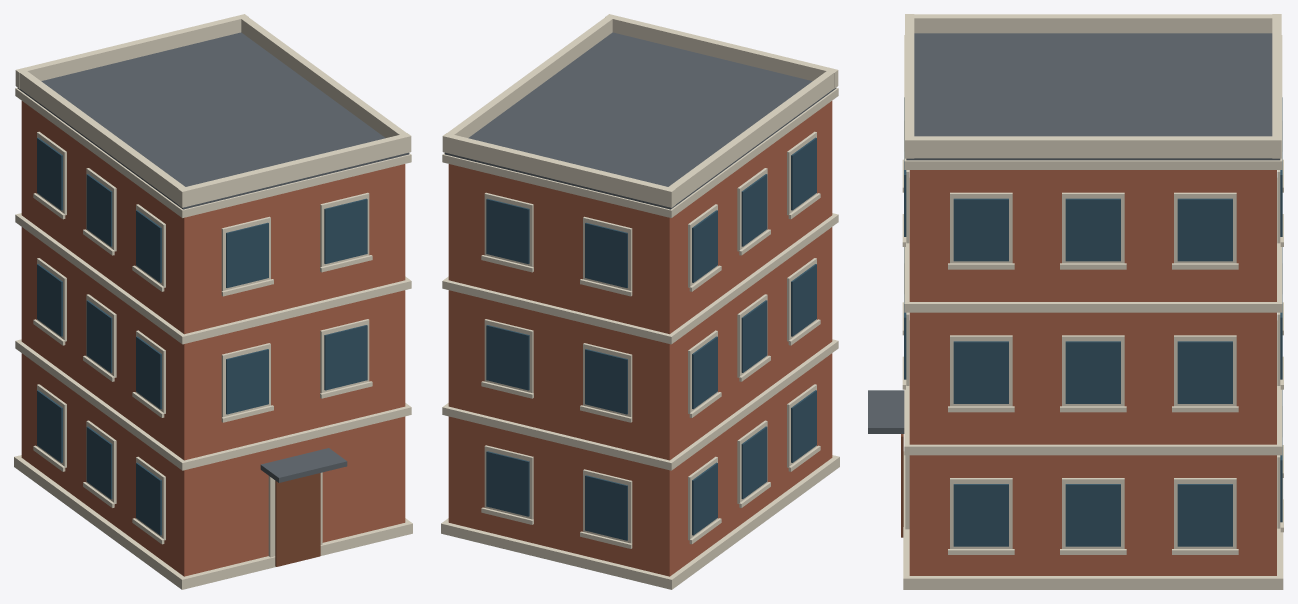
Rendered from 07-row-house.glb.
3 renders of one model, left to right at view 1: azimuth 30°, elevation 25°; view 2: azimuth 150°, elevation 25°; view 3: azimuth 270°, elevation 25°, orthographic. The views are drawn at different scales.
Parts seen in each view (by area): view 1: 07-row-house; view 2: 07-row-house; view 3: 07-row-house.
Part boxes in pixels (bbox=[...]): 07-row-house: bbox=[14, 14, 412, 589]; 07-row-house: bbox=[441, 14, 839, 589]; 07-row-house: bbox=[868, 14, 1283, 589].
Size of the model in its own units: 5.76 by 9.44 by 7.92.
